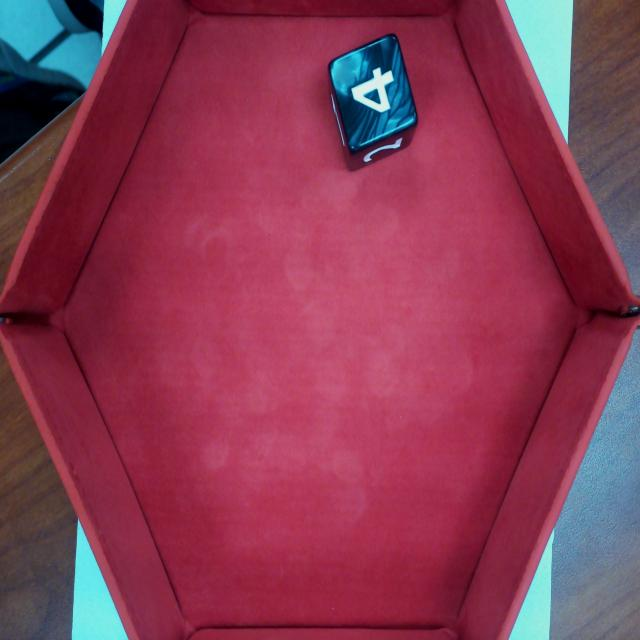dice: (327, 30, 422, 157)
